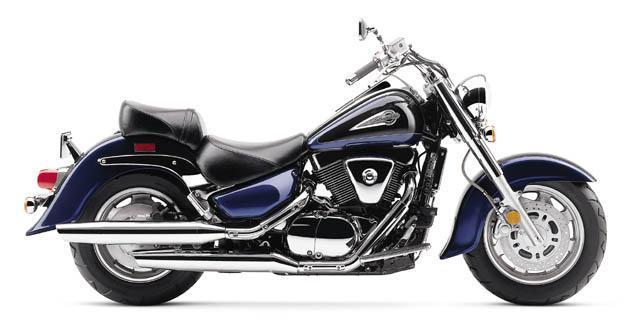motorcycle: (19, 3, 637, 321)
